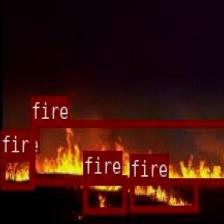fire: (30, 119, 224, 182), (129, 176, 198, 212), (83, 174, 126, 212), (0, 153, 33, 189)
